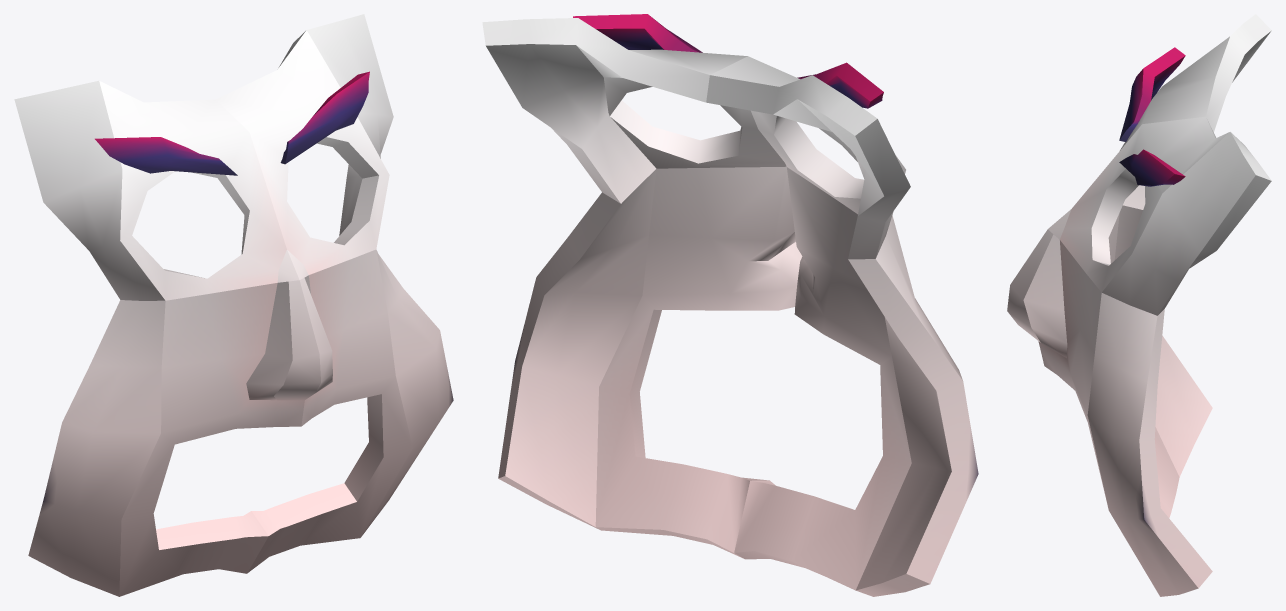
The model's file is M_EnemyGhost_01_Mask.fbx.
3 renders of one model, left to right at view 1: azimuth 30°, elevation 25°; view 2: azimuth 150°, elevation 25°; view 3: azimuth 270°, elevation 25°, orthographic. The views are drawn at different scales.
Visible parts, largest first — view 1: M_EnemyGhost_01_Mask; view 2: M_EnemyGhost_01_Mask; view 3: M_EnemyGhost_01_Mask.
Part boxes in pixels (left/top/right/bottom): M_EnemyGhost_01_Mask: left=14, top=14, right=453, bottom=596; M_EnemyGhost_01_Mask: left=482, top=14, right=978, bottom=596; M_EnemyGhost_01_Mask: left=1007, top=14, right=1271, bottom=596.
Size of the model in its own units: 188 by 213 by 112.
